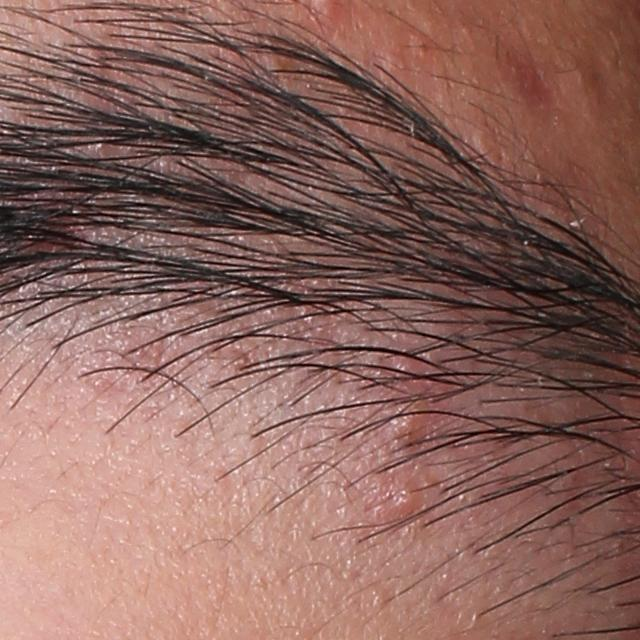atrophic_scar: (506, 48, 561, 115), (580, 46, 629, 114)
papule: (376, 481, 425, 522)
